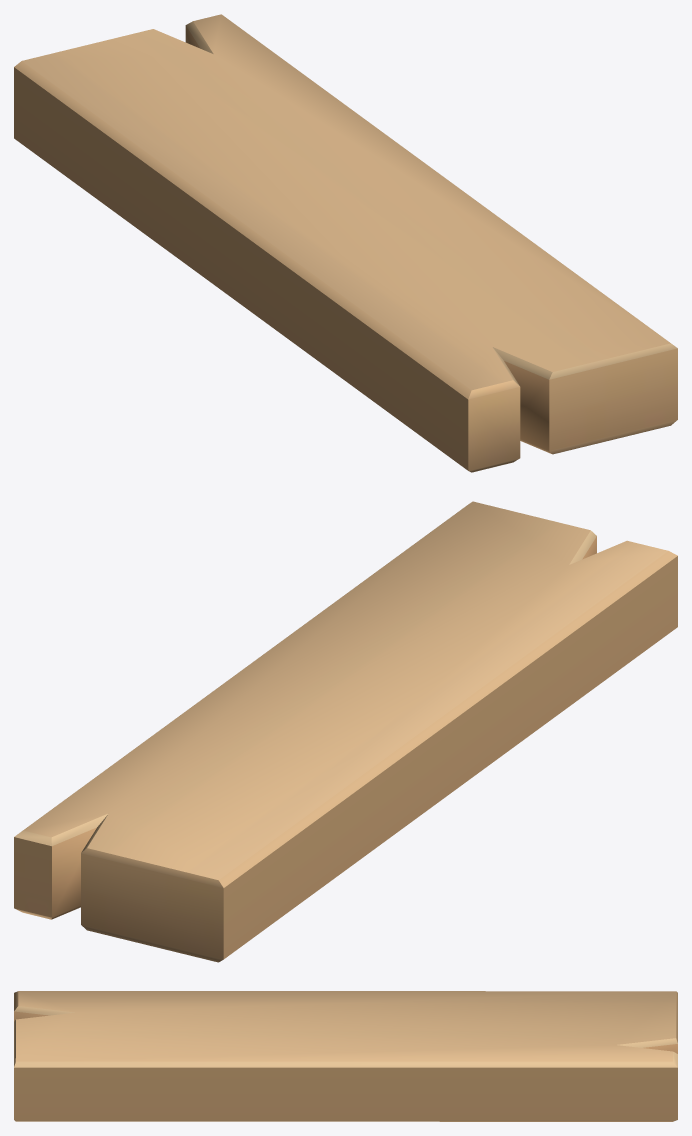
Rendered from wood_plank_c.glb.
The picture shows the model from 3 angles, top to bottom: view 1: azimuth 30°, elevation 25°; view 2: azimuth 150°, elevation 25°; view 3: azimuth 270°, elevation 25°; orthographic projection. The views are drawn at different scales.
Parts seen in each view (by area): view 1: Wood_Plank_C; view 2: Wood_Plank_C; view 3: Wood_Plank_C.
Part boxes in pixels (x1,y1,x2,y2): Wood_Plank_C: [14, 14, 677, 472]; Wood_Plank_C: [14, 501, 677, 962]; Wood_Plank_C: [14, 991, 677, 1121].
Size of the model in its own units: 0.4 by 0.15 by 1.5.
1 material, 1 textured.
